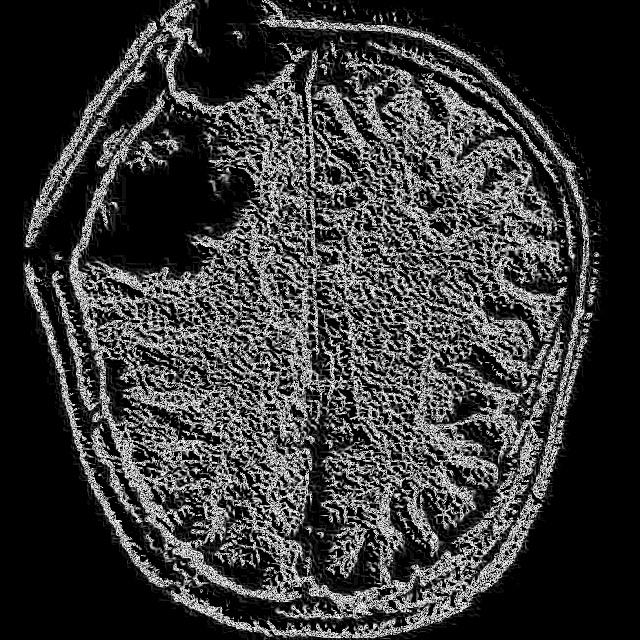Brain-Tumor: (66, 103, 266, 288), (147, 0, 320, 106)
